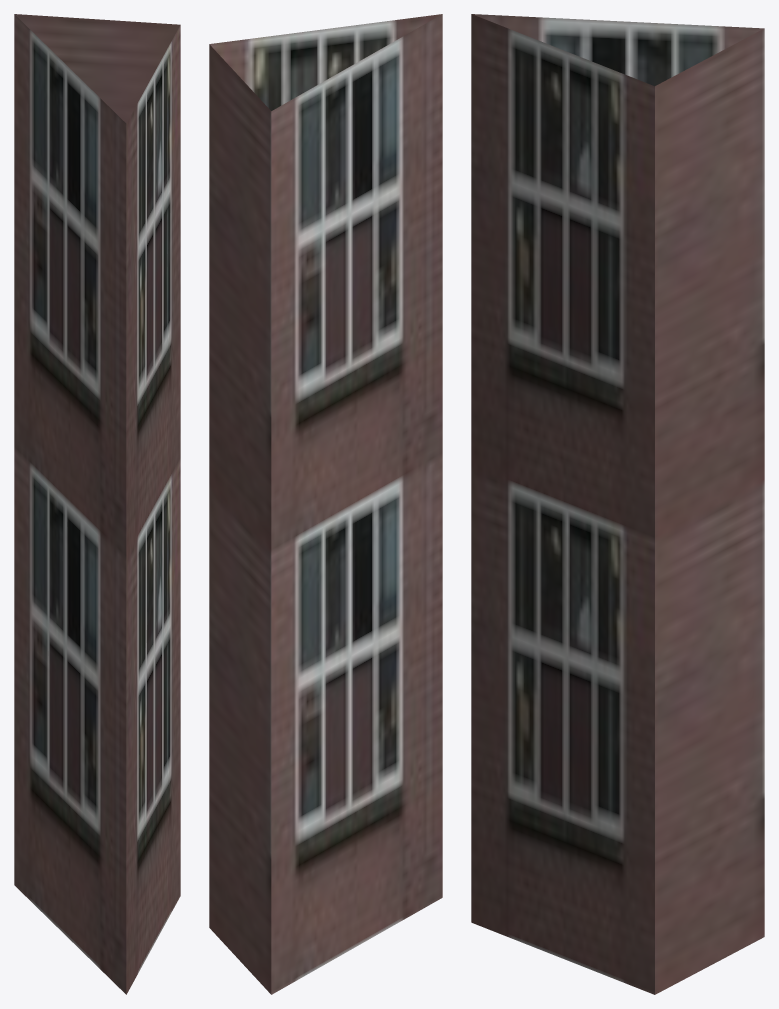
File: ResTex__1512.fbx
3 views of the same model, side by side, from view 1: azimuth 30°, elevation 25°; view 2: azimuth 150°, elevation 25°; view 3: azimuth 270°, elevation 25° (orthographic). The views are drawn at different scales.
Visible parts, largest first — view 1: CityEngineMaterial_12_m; view 2: CityEngineMaterial_12_m; view 3: CityEngineMaterial_12_m.
Boxes of the visible parts, x1,y1,x2,y2 form: CityEngineMaterial_12_m: (14, 14, 180, 994); CityEngineMaterial_12_m: (209, 14, 442, 994); CityEngineMaterial_12_m: (471, 14, 764, 994).
Size of the model in its own units: 1.02 by 6 by 1.75.
Materials: 1 (1 with a texture image).
